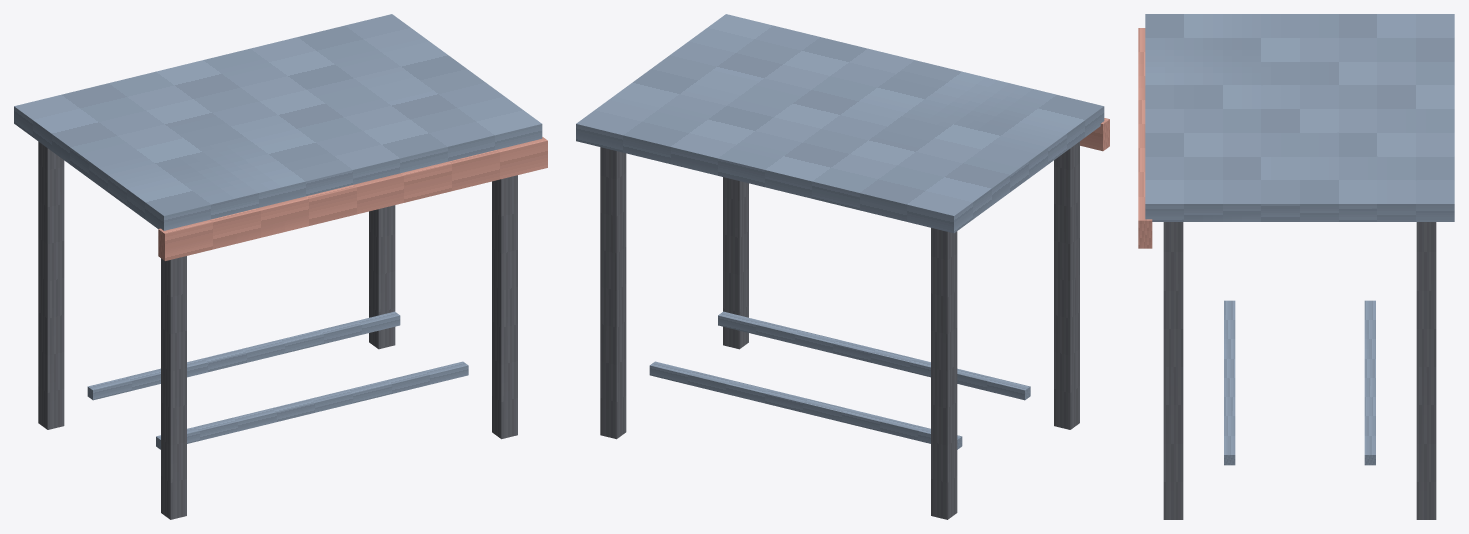
Rendered from pixel-modern-supermarket-trolley-shelter-e96dfc69__27974.glb.
3 views of the same model, side by side, from view 1: azimuth 30°, elevation 25°; view 2: azimuth 150°, elevation 25°; view 3: azimuth 270°, elevation 25° (orthographic). The views are drawn at different scales.
Parts seen in each view (by area): view 1: trolley-shelter; view 2: trolley-shelter; view 3: trolley-shelter.
Part boxes in pixels (bbox=[...]): trolley-shelter: bbox=[14, 14, 547, 519]; trolley-shelter: bbox=[576, 14, 1109, 519]; trolley-shelter: bbox=[1138, 14, 1454, 519].
Size of the model in its own units: 3.24 by 2.54 by 2.25.
Materials: 3 (3 with a texture image).
